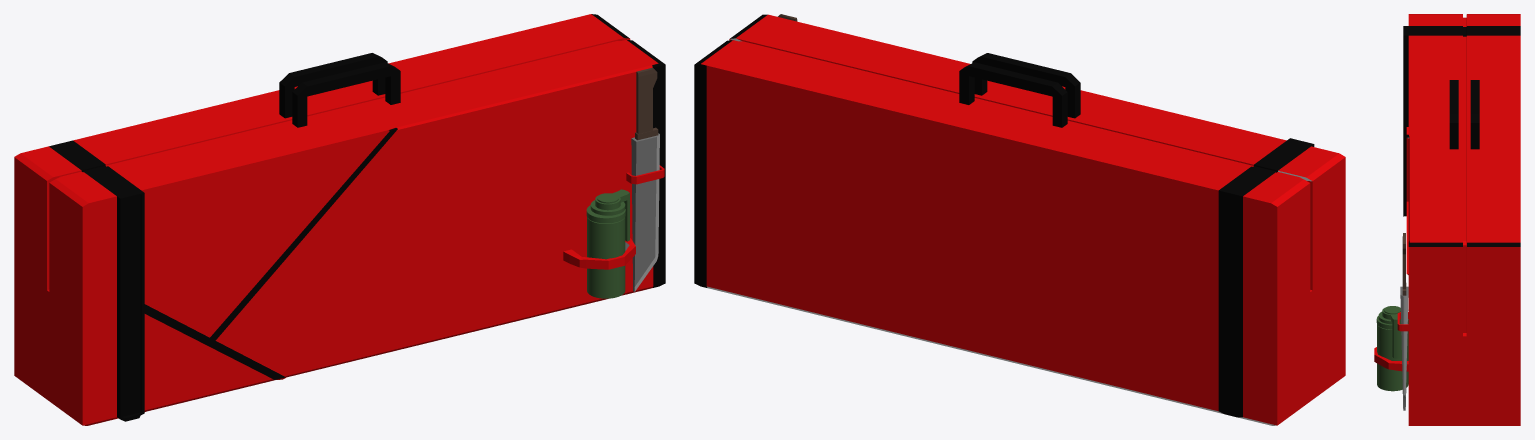
File: bag weapon.fbx
3 views of the same model, side by side, from view 1: azimuth 30°, elevation 25°; view 2: azimuth 150°, elevation 25°; view 3: azimuth 270°, elevation 25° (orthographic). The views are drawn at different scales.
Visible parts, largest first — view 1: Cube, Cube.001, Cube.003, Cylinder; view 2: Cube, Cube.003; view 3: Cube, Cylinder, Cube.003, Cube.001.
Part boxes in pixels (bbox=[...]): Cube: bbox=[14, 14, 665, 425]; Cube.001: bbox=[631, 67, 659, 291]; Cube.003: bbox=[279, 53, 400, 127]; Cylinder: bbox=[586, 189, 629, 298]; Cube: bbox=[694, 14, 1345, 425]; Cube.003: bbox=[959, 53, 1080, 127]; Cube: bbox=[1374, 14, 1520, 425]; Cylinder: bbox=[1376, 306, 1408, 391]; Cube.003: bbox=[1449, 80, 1479, 149]; Cube.001: bbox=[1400, 233, 1408, 410].
Size of the model in its own units: 986 by 425 by 261.
